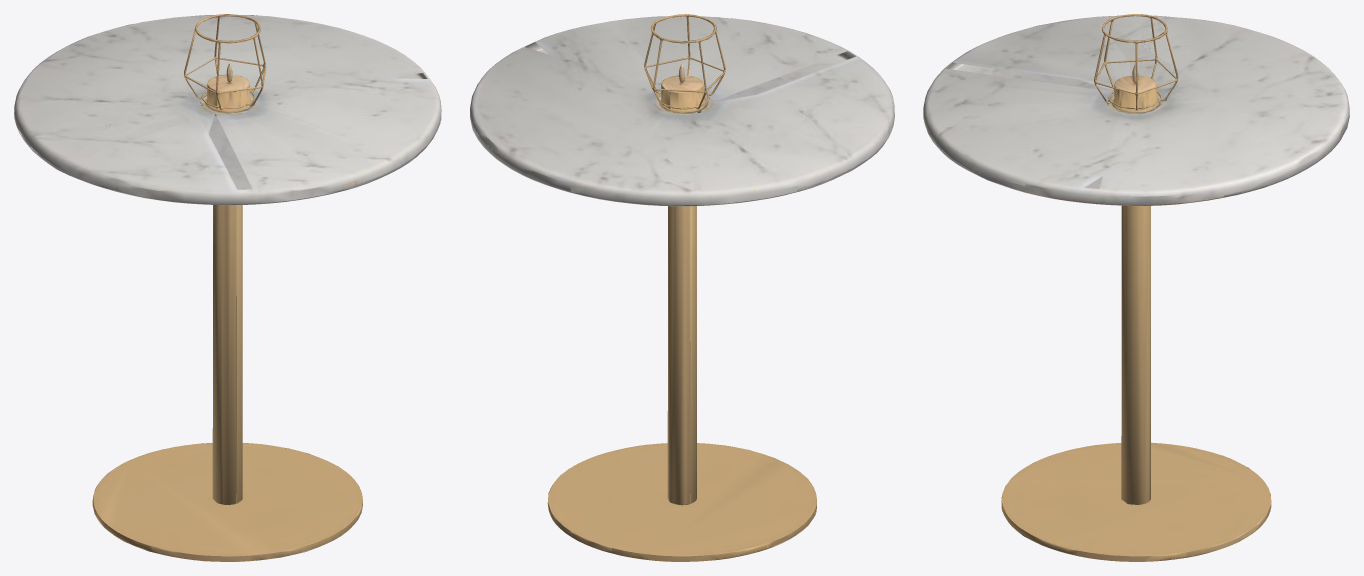
Rendered from side-table.glb.
3 renders of one model, left to right at view 1: azimuth 30°, elevation 25°; view 2: azimuth 150°, elevation 25°; view 3: azimuth 270°, elevation 25°, orthographic.
Parts seen in each view (by area): view 1: tripo_node_80b893bb-6f2c-46c3-bb1d-8000e5189224; view 2: tripo_node_80b893bb-6f2c-46c3-bb1d-8000e5189224; view 3: tripo_node_80b893bb-6f2c-46c3-bb1d-8000e5189224.
Part boxes in pixels (<box>): tripo_node_80b893bb-6f2c-46c3-bb1d-8000e5189224: <box>14,14,441,561</box>; tripo_node_80b893bb-6f2c-46c3-bb1d-8000e5189224: <box>470,14,894,561</box>; tripo_node_80b893bb-6f2c-46c3-bb1d-8000e5189224: <box>923,14,1349,561</box>.
Bounding box in the file's own units: 0.5024 × 0.6203 × 0.5019.
1 material, 1 textured.
